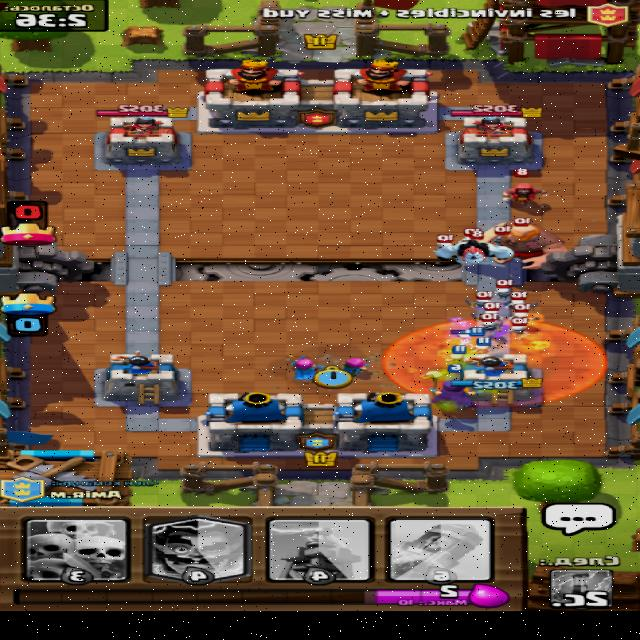Enemy-Giant: (478, 217, 576, 270)
Enemy-IceGolem: (437, 231, 516, 264)
Enemy-Skeleton: (472, 313, 507, 335), (465, 290, 496, 310), (507, 317, 534, 338), (493, 278, 518, 297), (507, 290, 531, 308), (514, 300, 539, 317), (433, 233, 457, 250), (479, 301, 504, 314), (462, 227, 482, 242)
Enemy-Wizard: (502, 168, 552, 206)
Player-Archer: (284, 352, 329, 380), (342, 357, 383, 376)
Player-Skeleton: (452, 326, 484, 344), (448, 344, 469, 364), (473, 337, 495, 354)
Player-Witch: (425, 363, 479, 411)
